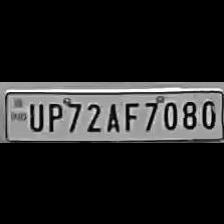0: (159, 97, 179, 130), (198, 96, 216, 128)
2: (82, 98, 102, 132)
7: (62, 97, 82, 132), (140, 97, 158, 131)
8: (178, 96, 198, 130)
A: (102, 98, 120, 132)
F: (120, 97, 140, 131)
P: (43, 98, 63, 132)
U: (26, 98, 44, 132)
